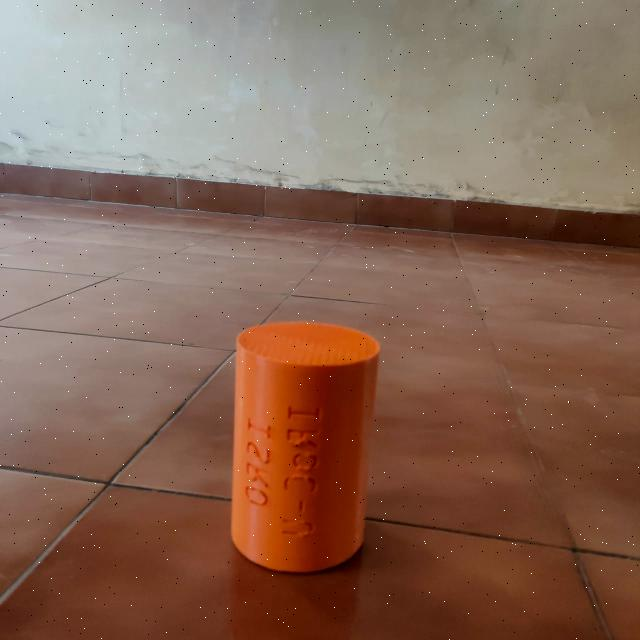Cylinder: (230, 320, 382, 574)
